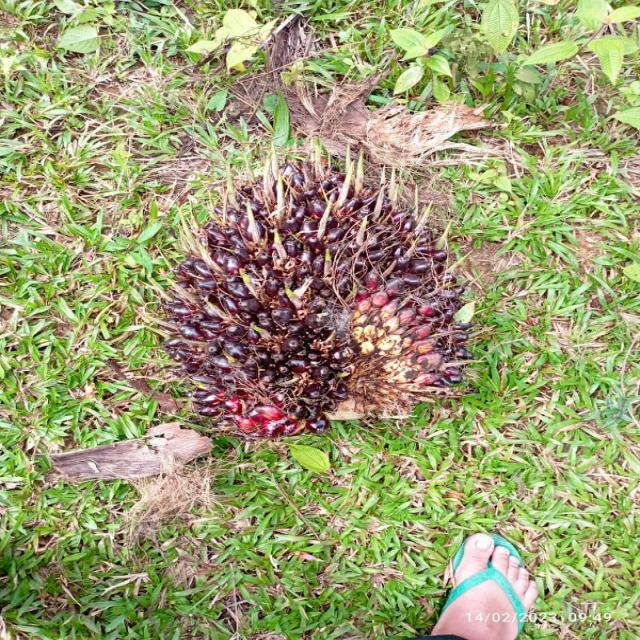fraksi 00: (151, 163, 480, 436)
